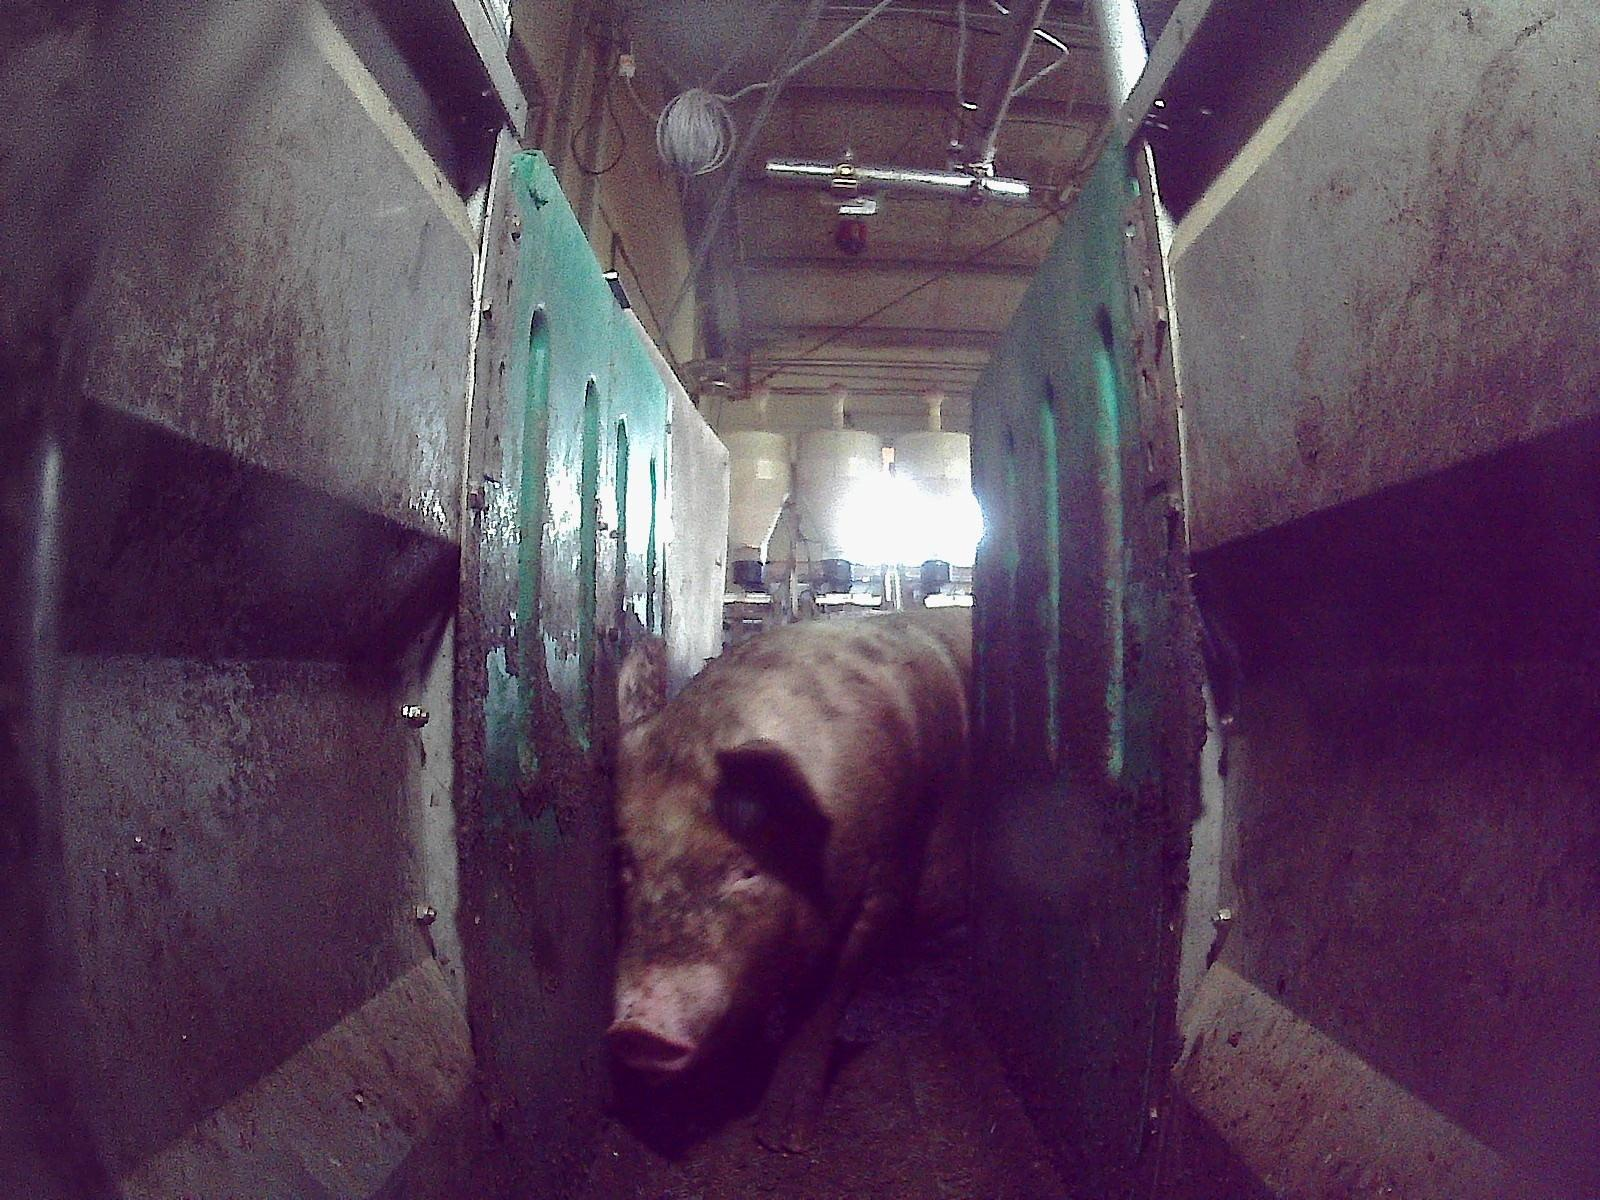Face: (602, 748, 823, 1075)
